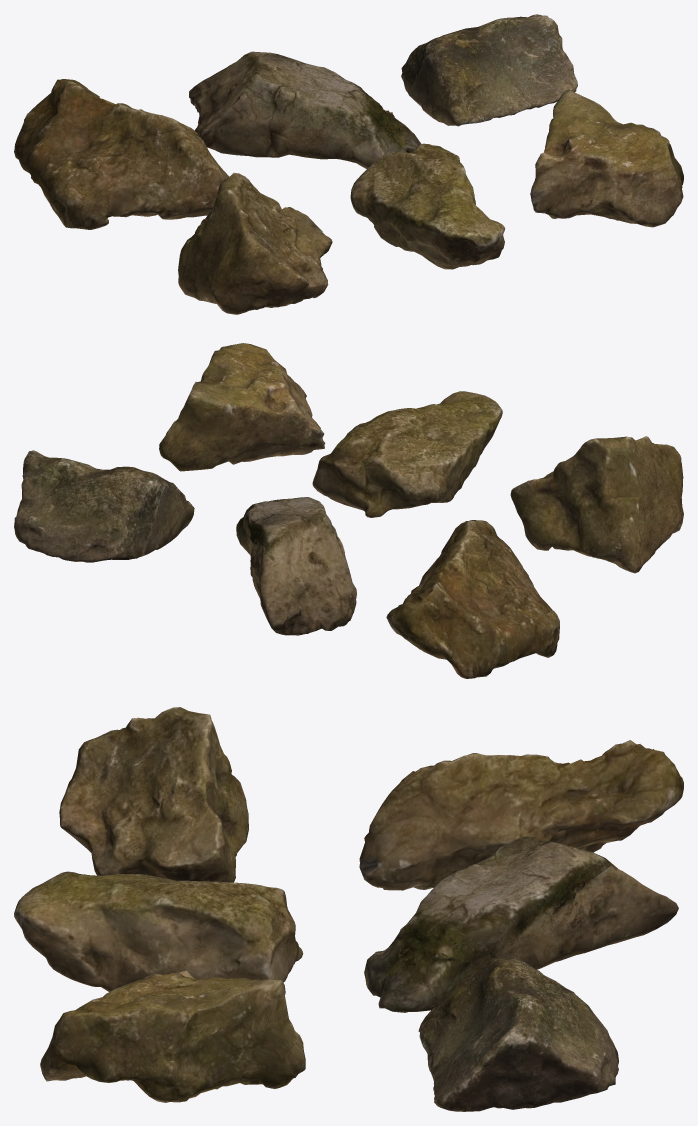
File: rock_moss_set_01.glb
3 renders of one model, top to bottom at view 1: azimuth 30°, elevation 25°; view 2: azimuth 150°, elevation 25°; view 3: azimuth 270°, elevation 25°, orthographic. The views are drawn at different scales.
Parts seen in each view (by area): view 1: rock_moss_set_01_rock01, rock_moss_set_01_rock02, rock_moss_set_01_rock06, rock_moss_set_01_rock04, rock_moss_set_01_rock03, rock_moss_set_01_rock05; view 2: rock_moss_set_01_rock04, rock_moss_set_01_rock01, rock_moss_set_01_rock05, rock_moss_set_01_rock03, rock_moss_set_01_rock06, rock_moss_set_01_rock02; view 3: rock_moss_set_01_rock01, rock_moss_set_01_rock02, rock_moss_set_01_rock05, rock_moss_set_01_rock06, rock_moss_set_01_rock04, rock_moss_set_01_rock03.
Part boxes in pixels (left/top/right/bottom): rock_moss_set_01_rock01: left=14, top=79, right=229, bottom=229; rock_moss_set_01_rock02: left=189, top=51, right=421, bottom=168; rock_moss_set_01_rock06: left=530, top=89, right=683, bottom=227; rock_moss_set_01_rock04: left=178, top=172, right=332, bottom=314; rock_moss_set_01_rock03: left=401, top=14, right=577, bottom=126; rock_moss_set_01_rock05: left=350, top=143, right=505, bottom=269; rock_moss_set_01_rock04: left=510, top=436, right=683, bottom=573; rock_moss_set_01_rock01: left=386, top=520, right=559, bottom=678; rock_moss_set_01_rock05: left=312, top=391, right=502, bottom=517; rock_moss_set_01_rock03: left=14, top=450, right=194, bottom=562; rock_moss_set_01_rock06: left=159, top=343, right=325, bottom=471; rock_moss_set_01_rock02: left=236, top=497, right=356, bottom=635; rock_moss_set_01_rock01: left=359, top=740, right=683, bottom=890; rock_moss_set_01_rock02: left=364, top=836, right=678, bottom=1012; rock_moss_set_01_rock05: left=14, top=871, right=303, bottom=991; rock_moss_set_01_rock06: left=40, top=970, right=305, bottom=1102; rock_moss_set_01_rock04: left=59, top=707, right=248, bottom=882; rock_moss_set_01_rock03: left=418, top=956, right=618, bottom=1111.
Size of the model in its own units: 8 by 1.76 by 6.94.
1 material, 1 textured.
